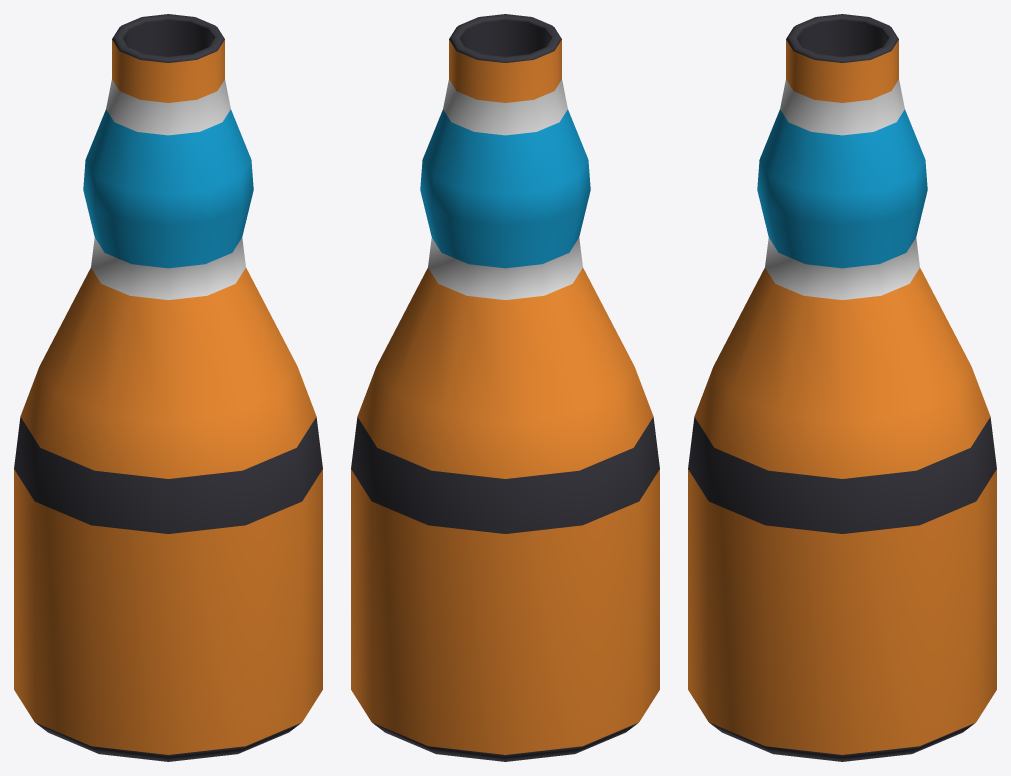
File: Bouteille Ramune.fbx
The picture shows the model from 3 angles, left to right: view 1: azimuth 30°, elevation 25°; view 2: azimuth 150°, elevation 25°; view 3: azimuth 270°, elevation 25°; orthographic projection.
Visible parts, largest first — view 1: bouteille_ramune; view 2: bouteille_ramune; view 3: bouteille_ramune.
Boxes of the visible parts, x1=… form: bouteille_ramune: x1=14, y1=14, x2=322, y2=761; bouteille_ramune: x1=351, y1=14, x2=659, y2=761; bouteille_ramune: x1=688, y1=14, x2=996, y2=761.
Size of the model in its own units: 9.23 by 21.96 by 9.23.
Materials: 1 (1 with a texture image).
